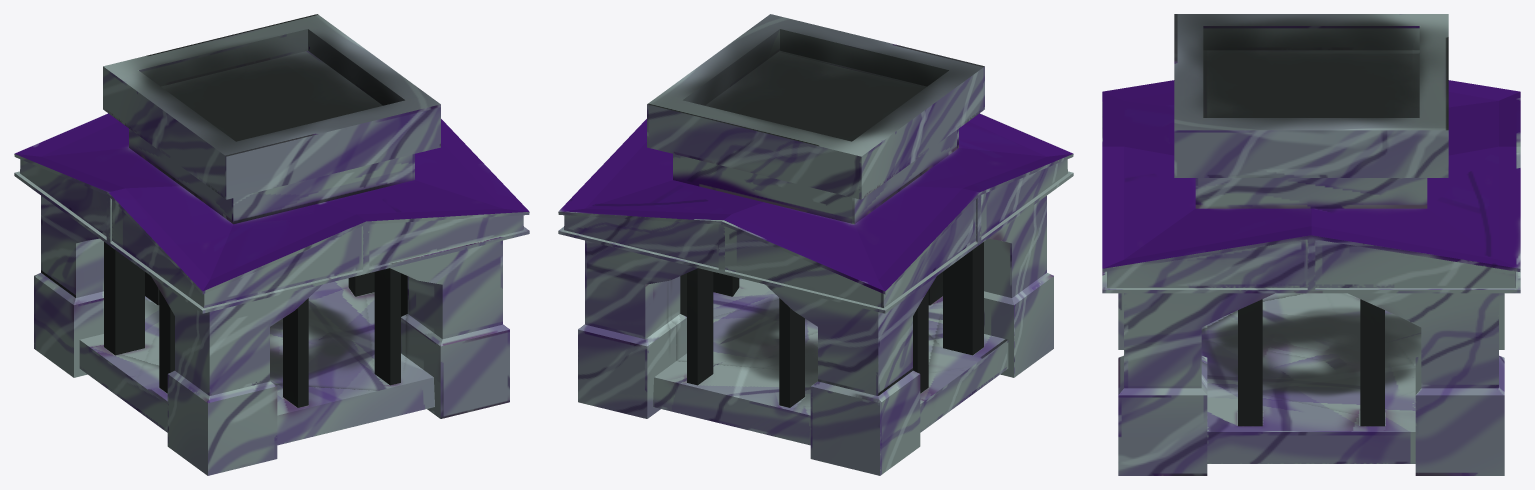
The model's file is forgenew 1.fbx.
3 views of the same model, side by side, from view 1: azimuth 30°, elevation 25°; view 2: azimuth 150°, elevation 25°; view 3: azimuth 270°, elevation 25° (orthographic). The views are drawn at different scales.
Visible parts, largest first — view 1: newforge2; view 2: newforge2; view 3: newforge2.
Part boxes in pixels (x1,y1,x2,y2): newforge2: [14, 14, 529, 475]; newforge2: [558, 14, 1073, 475]; newforge2: [1102, 14, 1520, 475].
Size of the model in its own units: 14455 by 12249 by 14414.
